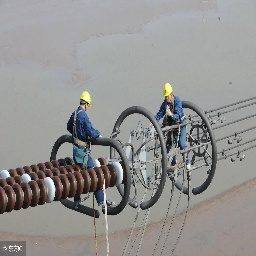helmet: (79, 91, 91, 105), (163, 82, 173, 95)
person: (66, 89, 97, 207), (157, 82, 188, 182)
